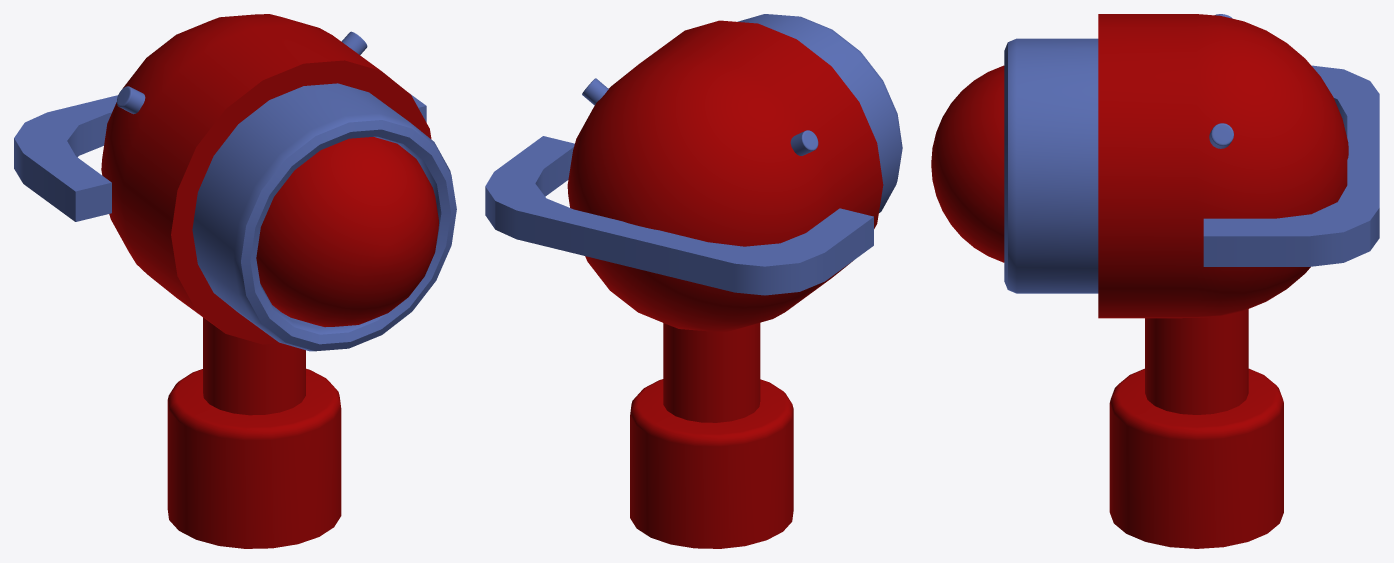
File: Tower_Arrow.fbx
3 views of the same model, side by side, from view 1: azimuth 30°, elevation 25°; view 2: azimuth 150°, elevation 25°; view 3: azimuth 270°, elevation 25° (orthographic). The views are drawn at different scales.
Parts seen in each view (by area): view 1: Tower_Arrow, Arrow_A; view 2: Tower_Arrow; view 3: Tower_Arrow, Arrow_A.
Boxes of the visible parts, box(x1,y1,x2,y2) form: Tower_Arrow: box(14, 14, 456, 548); Arrow_A: box(256, 137, 438, 327); Tower_Arrow: box(485, 14, 902, 548); Tower_Arrow: box(1004, 14, 1379, 548); Arrow_A: box(931, 65, 1004, 262).
Bounding box in the file's own units: 53.82 × 71 × 59.53.
